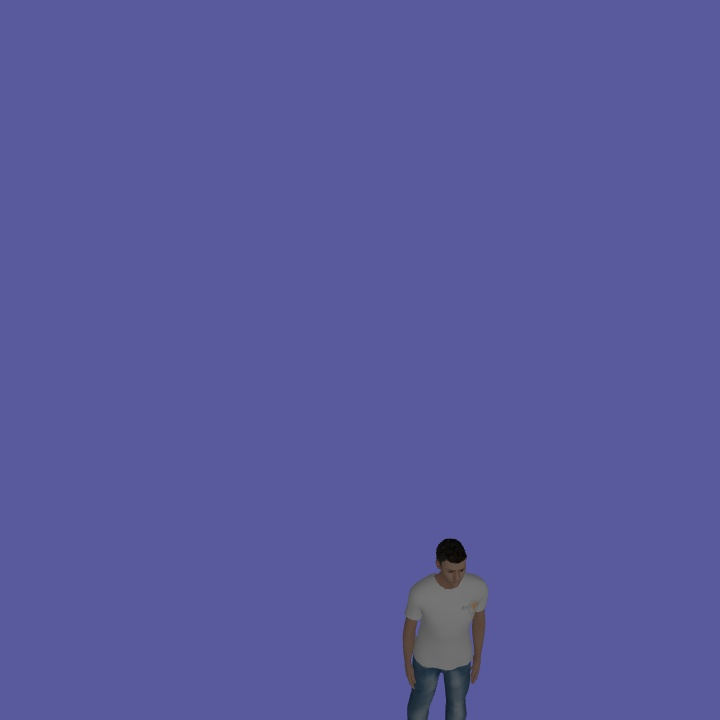victim: (400, 535, 487, 716)
